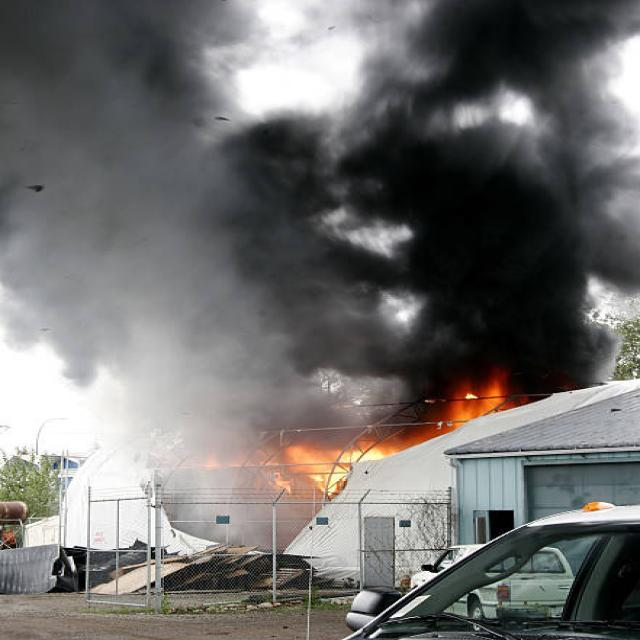Fire: (228, 373, 531, 498)
Smoke: (10, 0, 640, 390)
